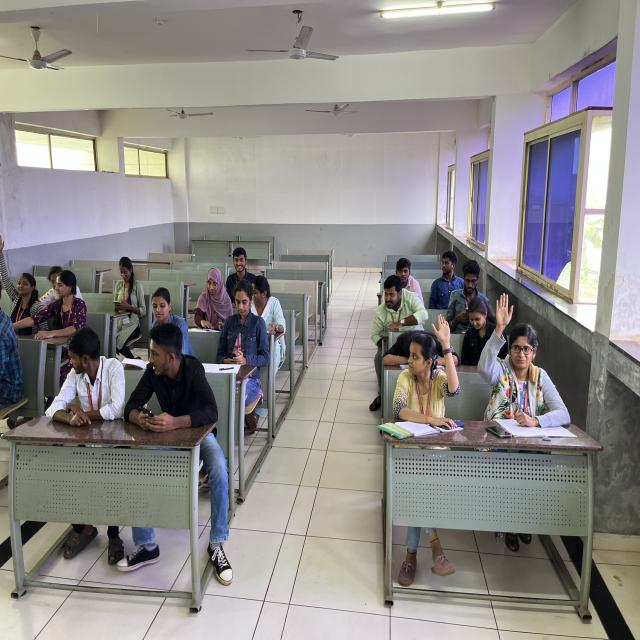Hand Rising: (476, 294, 580, 436), (383, 312, 466, 432)
Reading: (188, 262, 232, 333)
Using Phone: (122, 315, 223, 441), (214, 279, 274, 370), (102, 245, 147, 323), (450, 254, 498, 316)
